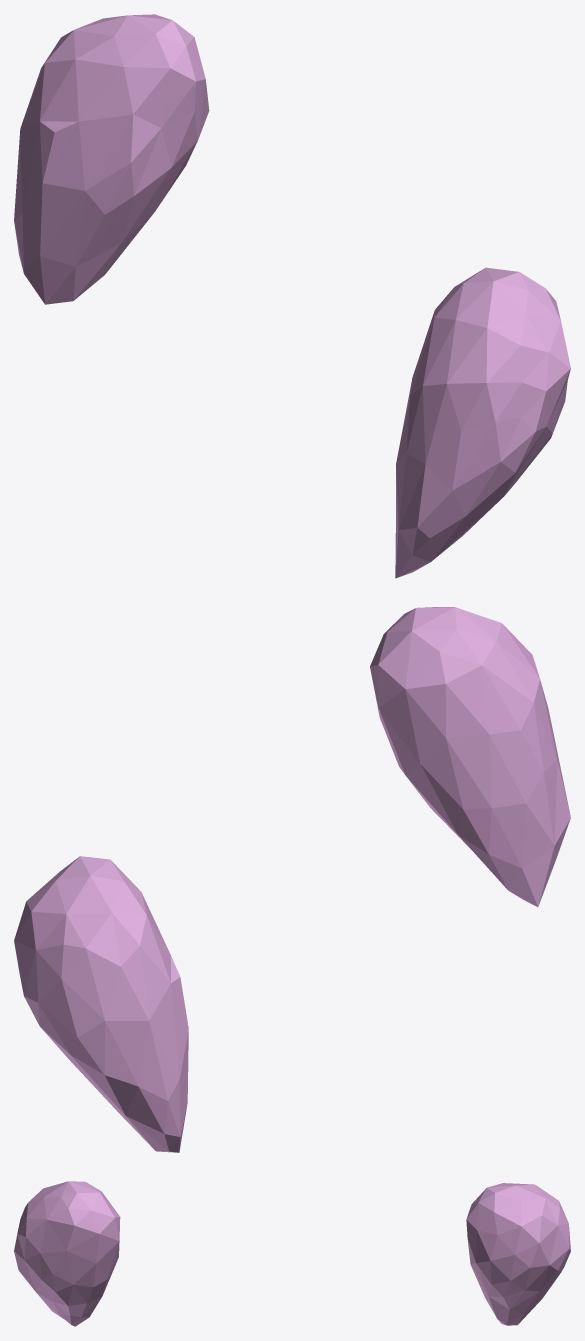
The picture shows the model from 3 angles, top to bottom: view 1: azimuth 30°, elevation 25°; view 2: azimuth 150°, elevation 25°; view 3: azimuth 270°, elevation 25°; orthographic projection. The views are drawn at different scales.
Parts seen in each view (by area): view 1: 549009203.obj; view 2: 549009203.obj; view 3: 549009203.obj.
Part boxes in pixels (x1=…): 549009203.obj: x1=14, y1=14, x2=570, y2=578; 549009203.obj: x1=14, y1=607, x2=570, y2=1152; 549009203.obj: x1=14, y1=1181, x2=570, y2=1326.
Size of the model in its own units: 294 by 469 by 1398.
